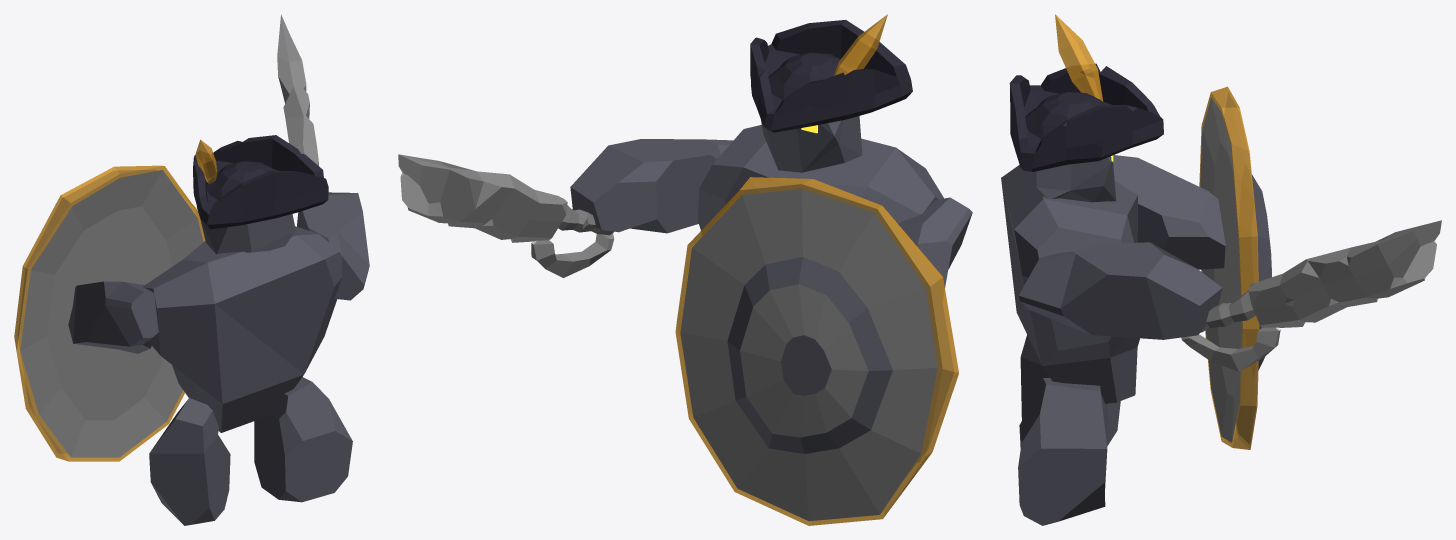
File: golemShield.fbx
The picture shows the model from 3 angles, left to right: view 1: azimuth 30°, elevation 25°; view 2: azimuth 150°, elevation 25°; view 3: azimuth 270°, elevation 25°; orthographic projection. The views are drawn at different scales.
Parts seen in each view (by area): view 1: Cube.003; view 2: Cube.003; view 3: Cube.003.
Part boxes in pixels (x1=…): Cube.003: x1=14, y1=14, x2=369, y2=525; Cube.003: x1=398, y1=14, x2=972, y2=525; Cube.003: x1=1001, y1=14, x2=1441, y2=525.
Bounding box in the file's own units: 1200 × 1171 × 1067.
